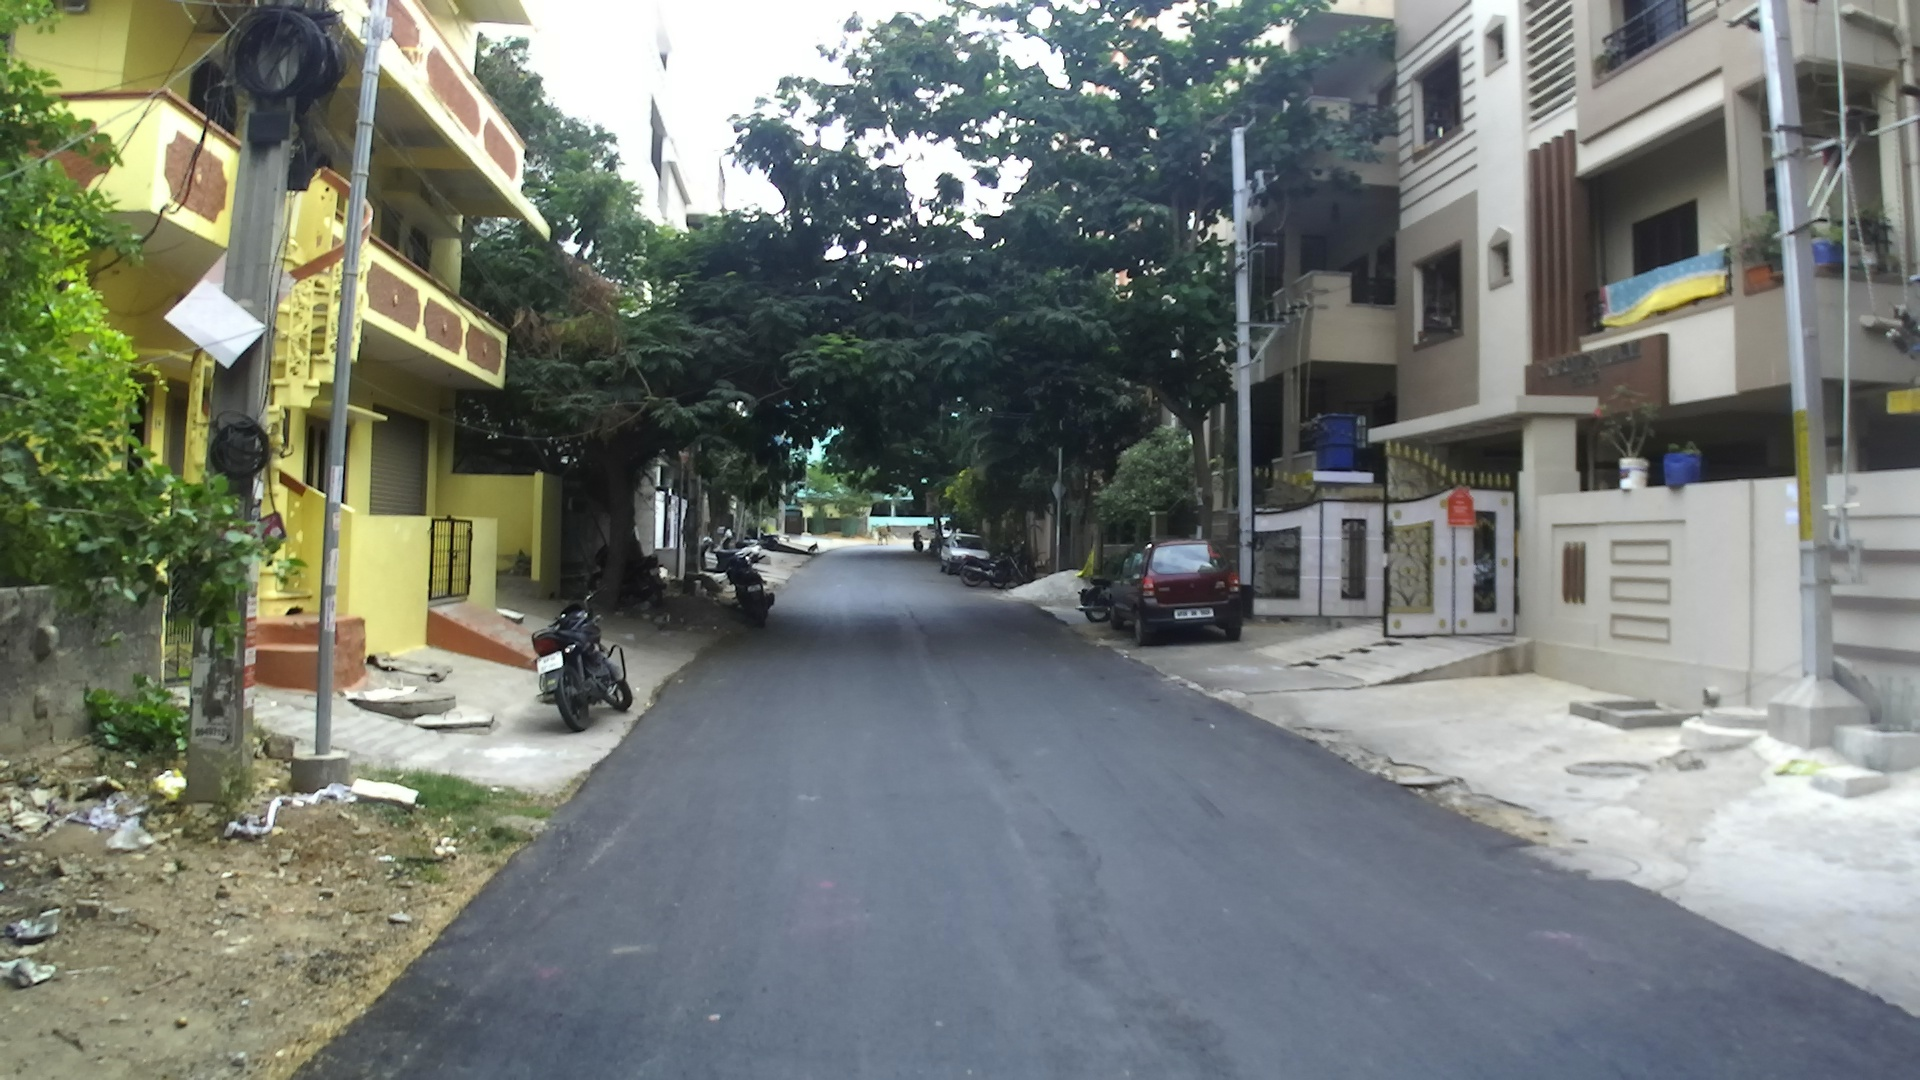vehicle: (1081, 541, 1254, 645), (531, 600, 634, 729), (936, 535, 1005, 585), (935, 534, 994, 578)
